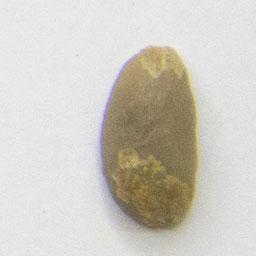longberry: (96, 42, 202, 234)
